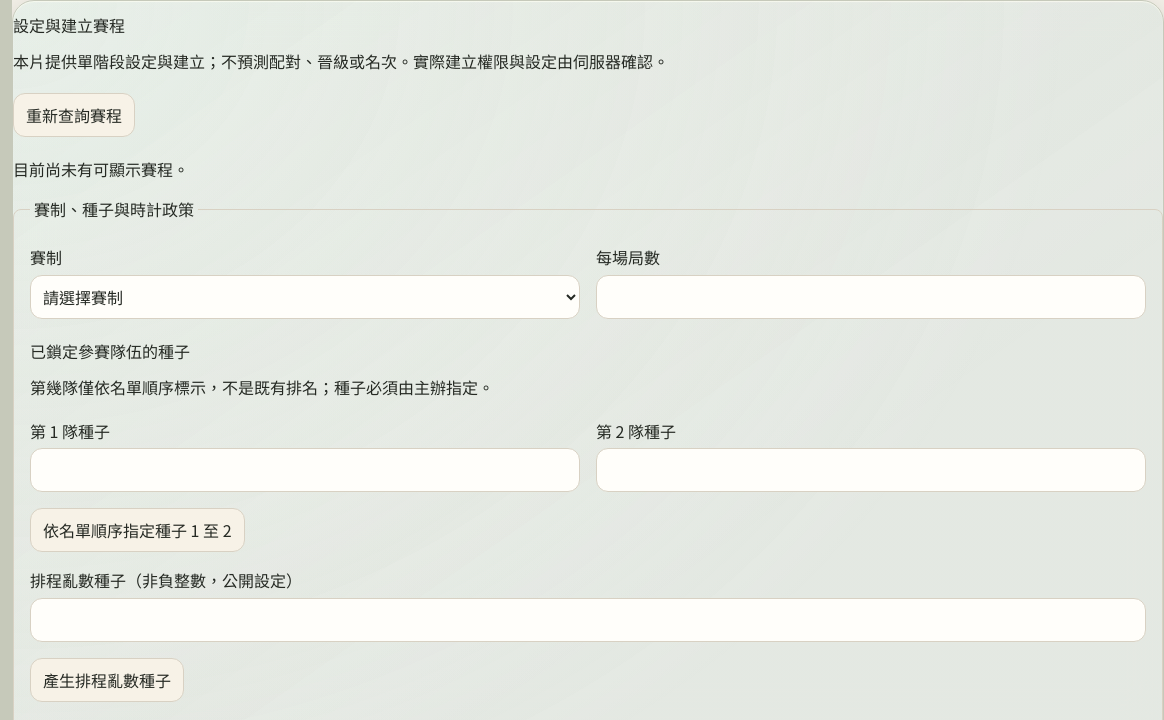
Test: 預填五分鐘主時間與三十秒讀秒；必填與四賽制標籤／勝局門檻為真 UI，不從名單推排名
Check: the field with test id "tournament-random-seed" is empty, box [30, 598, 1146, 642]
Select "單敗淘汰" in the dropdown with test id "tournament-format": (305, 297) [30, 275, 580, 319]
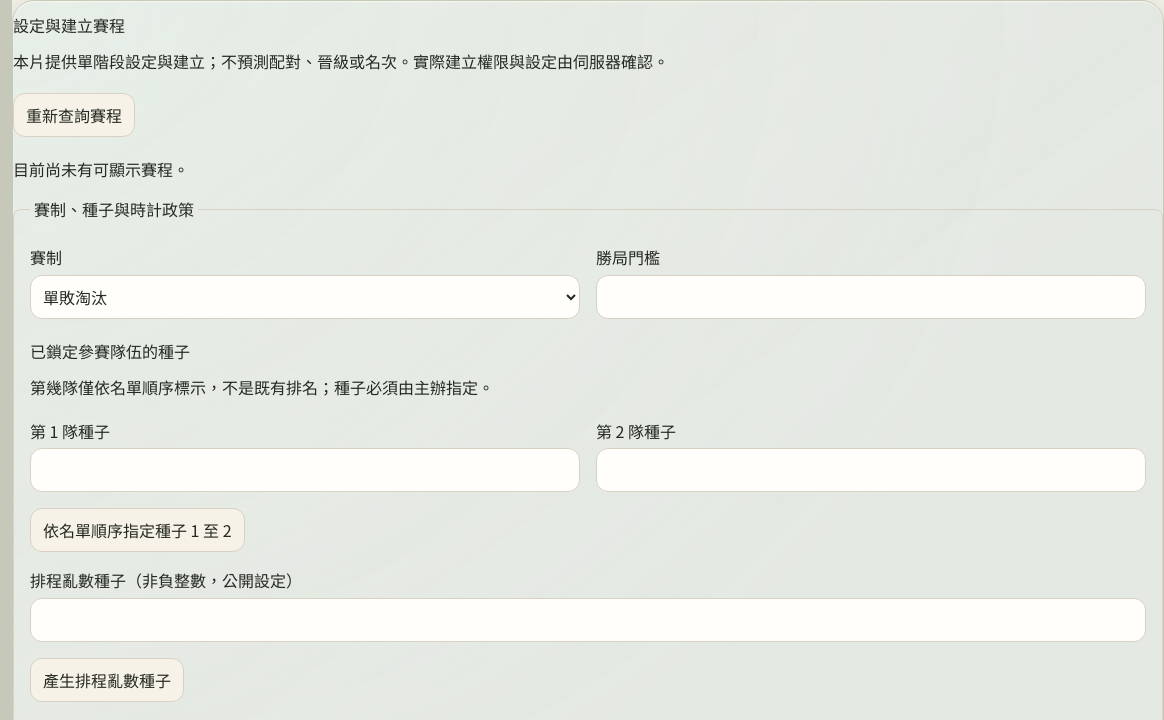
Select "循環賽" in the dropdown with test id "tournament-format": (305, 297) [30, 275, 580, 319]
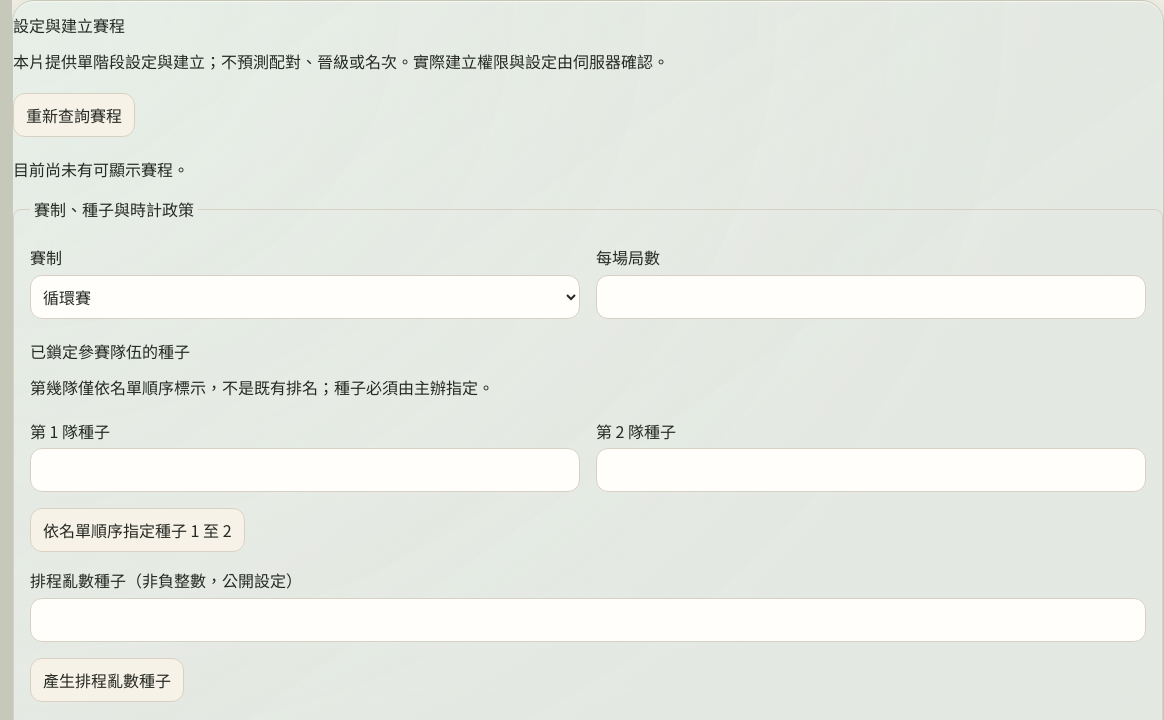
Select "雙敗淘汰" in the dropdown with test id "tournament-format": (305, 297) [30, 275, 580, 319]
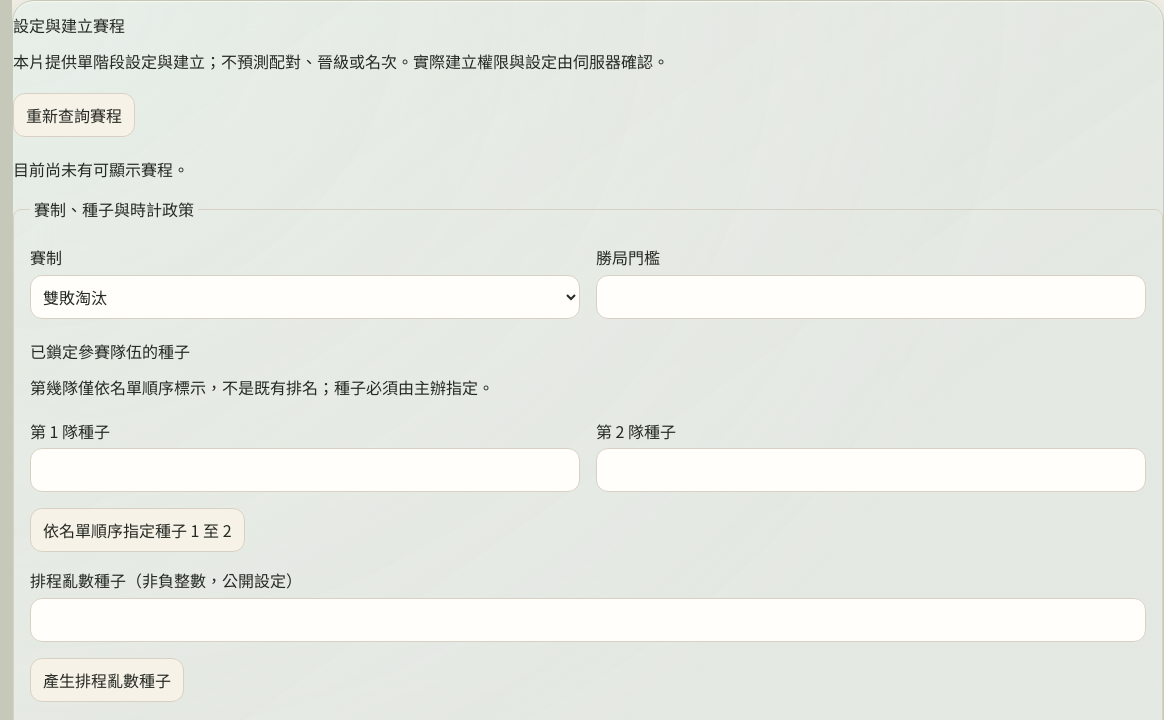
Select "瑞士制" in the dropdown with test id "tournament-format": (305, 297) [30, 275, 580, 319]
(page scrolled)
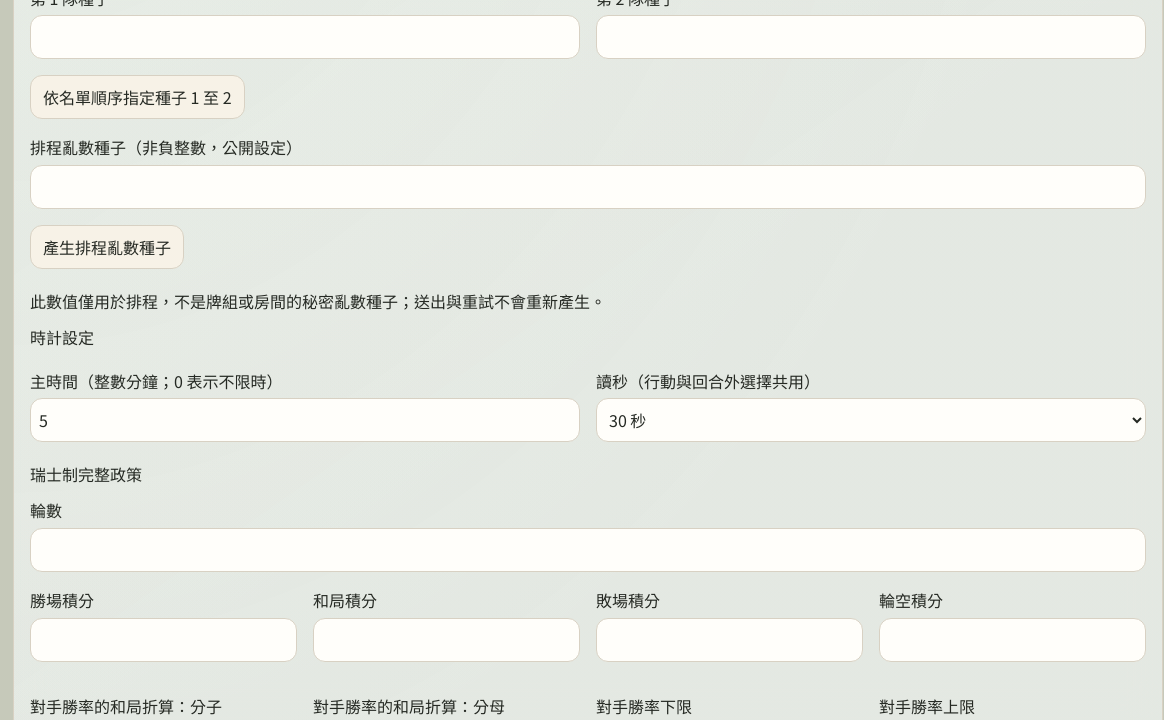
Submit the form with test id "tournament-form"
(page scrolled)
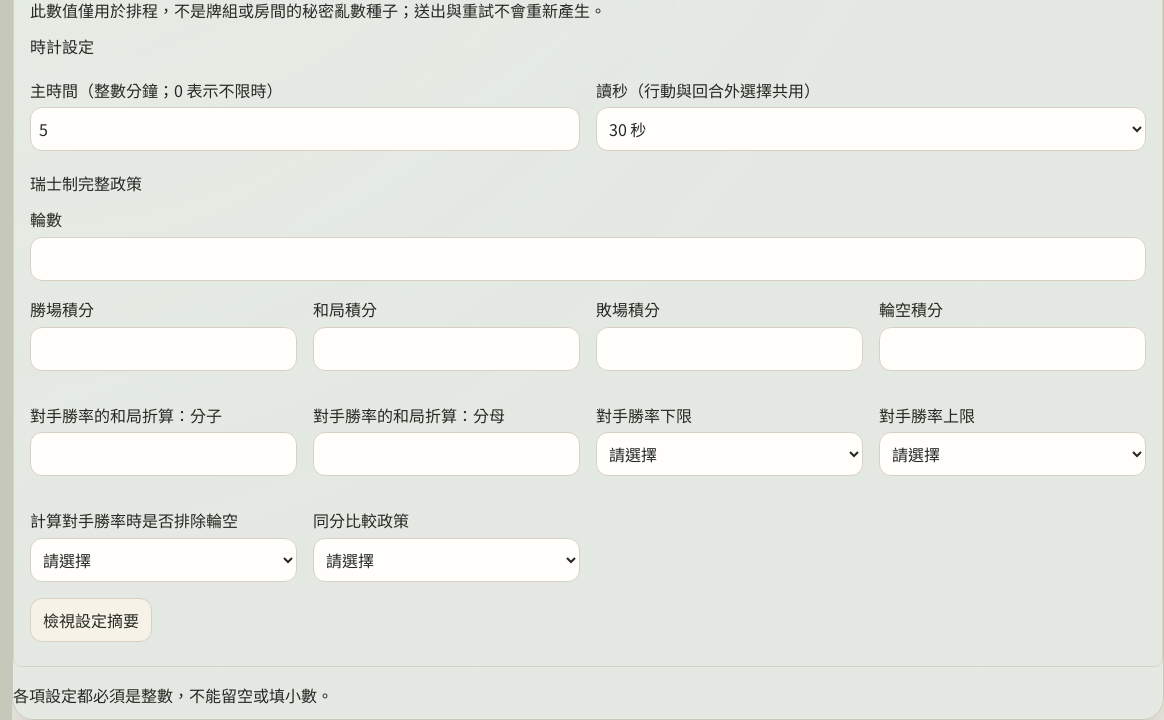
Check: the message "各項設定都必須是整數，不能留空或填小數。" is shown, box [13, 683, 333, 707]
